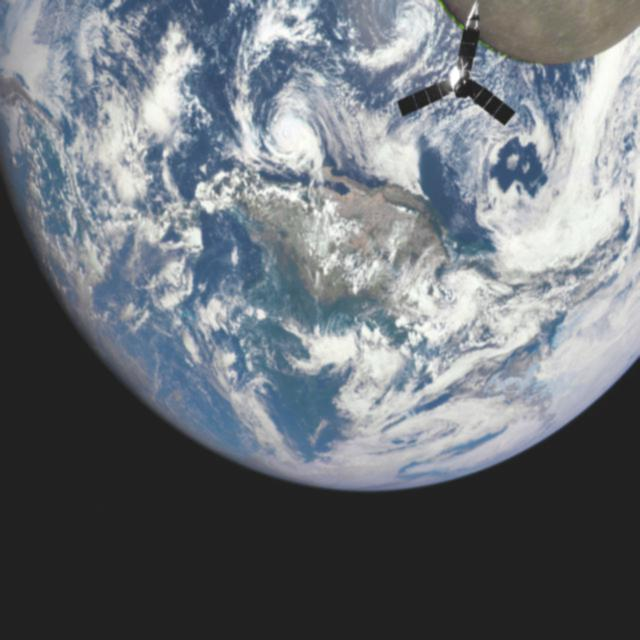satellite: (384, 7, 523, 133)
